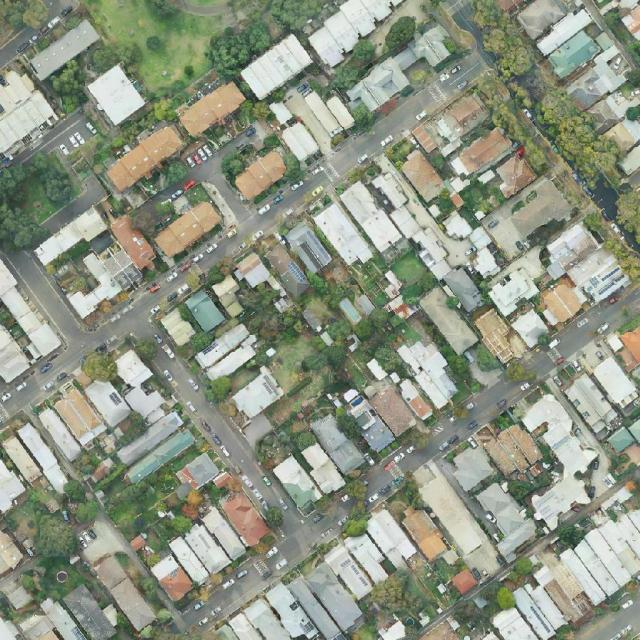building: (405, 459, 507, 584), (364, 163, 464, 282), (342, 20, 459, 119), (143, 506, 249, 605), (530, 245, 631, 334), (480, 173, 576, 262), (0, 260, 64, 385), (518, 391, 603, 484), (53, 237, 143, 320), (47, 363, 133, 449), (304, 0, 403, 71), (110, 409, 197, 487), (462, 479, 541, 561), (271, 438, 349, 516), (480, 244, 560, 318), (279, 77, 352, 158), (394, 330, 467, 411), (471, 406, 547, 483), (103, 122, 185, 193), (322, 527, 395, 602), (107, 345, 171, 429), (574, 335, 640, 416), (92, 554, 159, 632), (238, 33, 314, 101), (338, 179, 404, 255), (32, 206, 109, 271), (396, 500, 460, 575), (193, 320, 264, 386), (27, 19, 100, 82), (176, 78, 249, 141), (524, 468, 593, 534), (312, 201, 376, 272), (417, 285, 481, 356), (152, 198, 223, 260), (304, 561, 365, 632), (306, 410, 368, 478), (285, 574, 348, 640), (534, 219, 601, 281), (337, 386, 396, 454), (447, 125, 516, 183), (361, 506, 422, 571), (361, 373, 420, 440), (86, 64, 147, 126), (229, 143, 292, 203), (562, 371, 620, 436), (430, 90, 493, 146), (227, 366, 286, 423), (471, 306, 524, 368), (62, 583, 119, 640), (109, 214, 161, 275), (220, 490, 273, 549), (283, 220, 334, 276), (36, 405, 85, 463), (263, 242, 312, 300), (397, 148, 448, 203), (446, 441, 498, 493), (489, 152, 538, 199), (602, 118, 640, 177), (442, 265, 486, 314), (464, 224, 502, 280), (183, 287, 226, 334), (302, 90, 344, 138), (210, 273, 252, 320), (394, 376, 435, 423), (176, 452, 221, 494), (510, 306, 552, 349), (280, 120, 320, 163), (158, 307, 198, 349), (337, 288, 377, 327), (235, 251, 273, 291), (0, 71, 34, 114), (410, 118, 446, 155), (0, 460, 25, 512), (439, 210, 475, 246), (324, 94, 357, 132), (0, 530, 23, 575), (606, 424, 637, 455), (93, 602, 117, 637), (267, 98, 294, 126), (572, 92, 589, 104), (416, 423, 429, 435), (330, 128, 339, 137)
greenland: (508, 63, 637, 199), (74, 0, 233, 101), (189, 0, 332, 82), (98, 461, 198, 566), (3, 484, 89, 606), (470, 69, 555, 181), (0, 152, 80, 251), (237, 278, 303, 353), (350, 305, 410, 386), (581, 206, 640, 286), (366, 563, 433, 631), (250, 414, 319, 472), (382, 246, 440, 307), (44, 55, 102, 115), (326, 36, 383, 97), (602, 5, 640, 91), (298, 260, 352, 311), (125, 192, 180, 242), (55, 477, 103, 528), (214, 135, 262, 184), (142, 153, 193, 199), (87, 37, 144, 75), (377, 10, 424, 56), (232, 75, 273, 126), (79, 348, 122, 390), (465, 341, 506, 384), (453, 600, 499, 638), (506, 470, 556, 503), (328, 404, 368, 445), (439, 339, 475, 384), (110, 409, 150, 449), (50, 238, 93, 274), (299, 344, 348, 374), (552, 518, 588, 552), (346, 102, 380, 136), (201, 375, 236, 406), (21, 0, 49, 28), (88, 40, 115, 69), (280, 151, 304, 182), (493, 584, 519, 612), (152, 97, 177, 123), (99, 49, 118, 67)
metalled_road: (83, 42, 491, 366), (145, 340, 309, 541), (0, 240, 108, 374), (390, 407, 478, 478), (13, 109, 97, 177), (36, 173, 108, 236), (461, 371, 526, 430), (450, 2, 507, 68), (207, 170, 253, 224), (359, 450, 412, 496), (0, 22, 41, 69), (187, 150, 232, 187), (590, 178, 621, 221), (523, 345, 558, 382), (243, 116, 276, 150), (43, 0, 79, 19), (626, 231, 640, 254), (49, 355, 65, 374), (223, 140, 237, 154)
